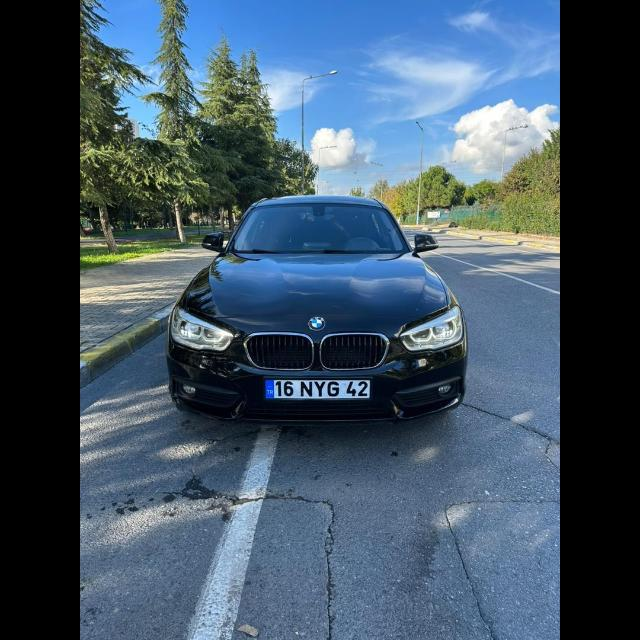Plaka: (264, 378, 370, 398)
